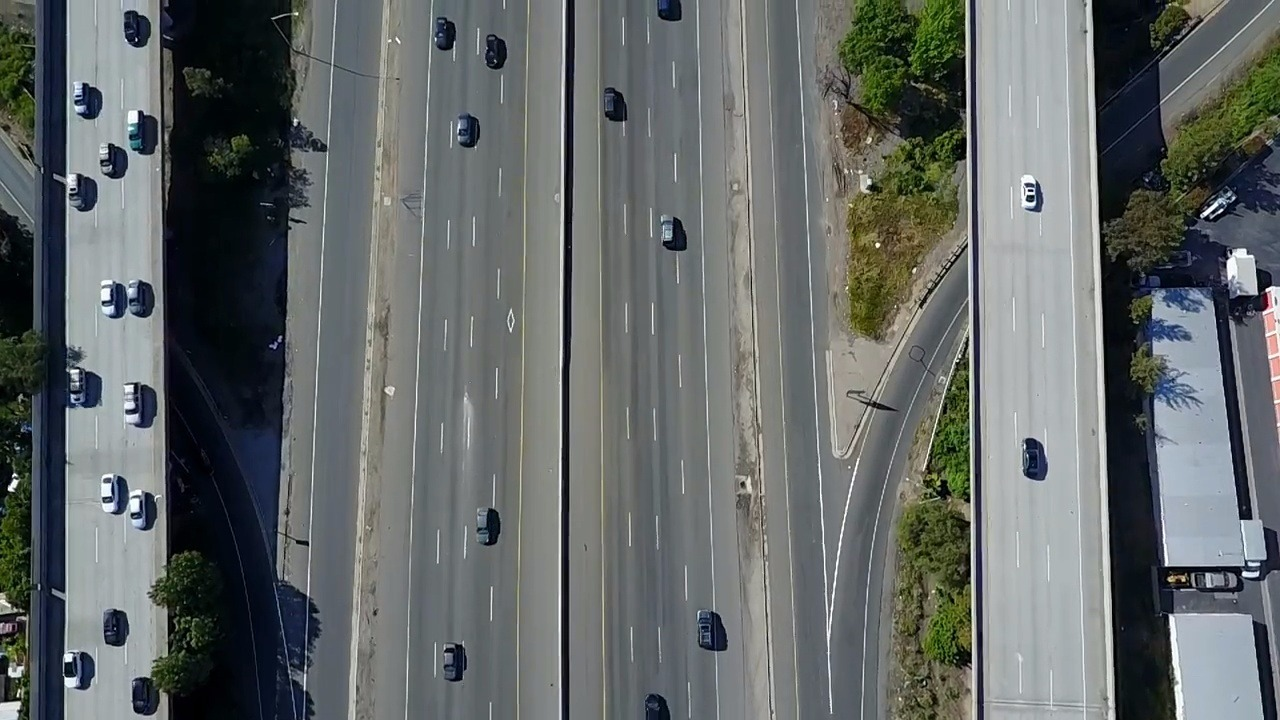v: (1221, 244, 1263, 315), (1238, 512, 1268, 585), (1018, 431, 1049, 484), (117, 381, 148, 431), (1188, 568, 1245, 595), (93, 471, 125, 519), (56, 647, 89, 693), (692, 602, 721, 652), (122, 108, 152, 156), (125, 674, 157, 718), (123, 486, 155, 530), (96, 606, 127, 649), (61, 367, 91, 411), (1016, 169, 1044, 216), (470, 504, 499, 549), (439, 638, 466, 686), (95, 276, 123, 322), (119, 8, 148, 52), (62, 171, 91, 213), (94, 140, 122, 183), (66, 79, 95, 120), (598, 82, 626, 123), (124, 276, 149, 317), (480, 32, 505, 72), (430, 12, 455, 52), (641, 691, 673, 720), (658, 212, 681, 251), (455, 110, 478, 149)
